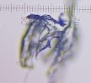microplastic: (39, 1, 81, 78), (18, 12, 67, 70)
